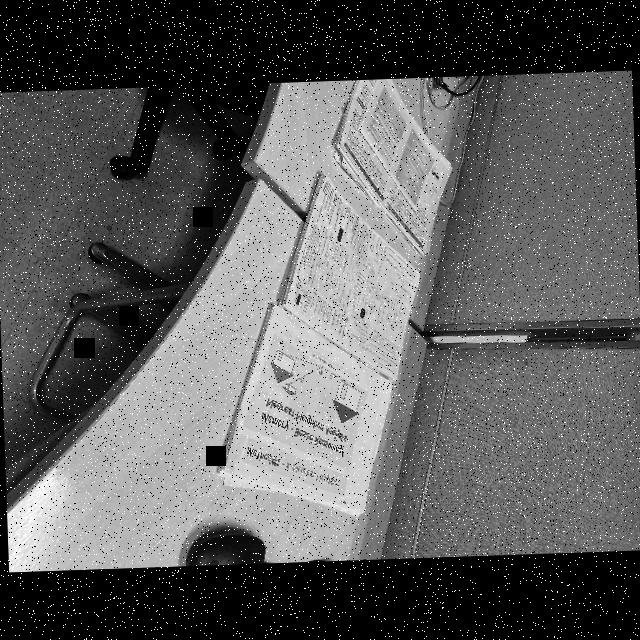reuseable_paper: (206, 167, 434, 527), (324, 75, 464, 266)
